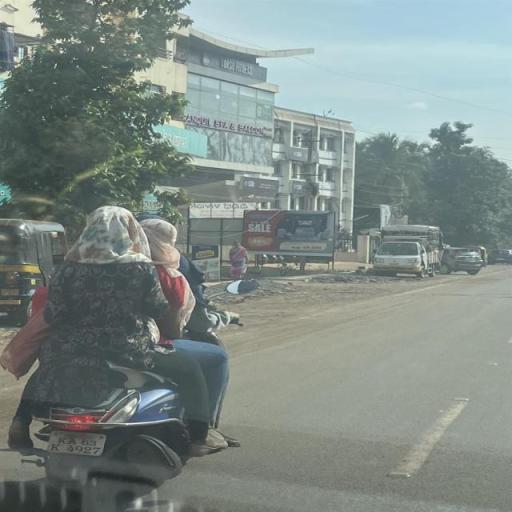tripple riding: (12, 206, 258, 341)
